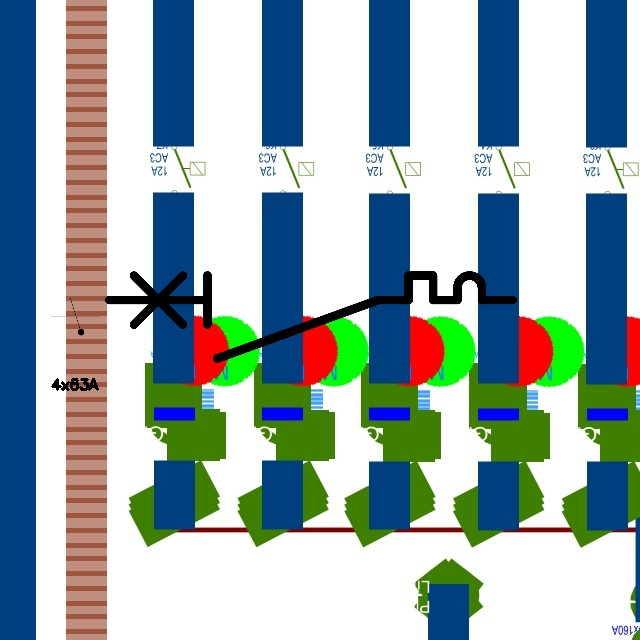interruptor_termomagnetico: (99, 265, 523, 369)
